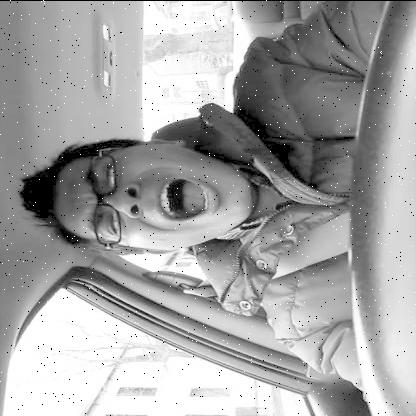seatbelt: (8, 93, 352, 315)
